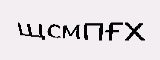М: (61, 24, 82, 40)
П: (82, 22, 104, 42)
С: (47, 23, 62, 40)
Х: (123, 22, 148, 43)
Щ: (16, 22, 46, 40)
Ғ: (104, 20, 125, 42)
